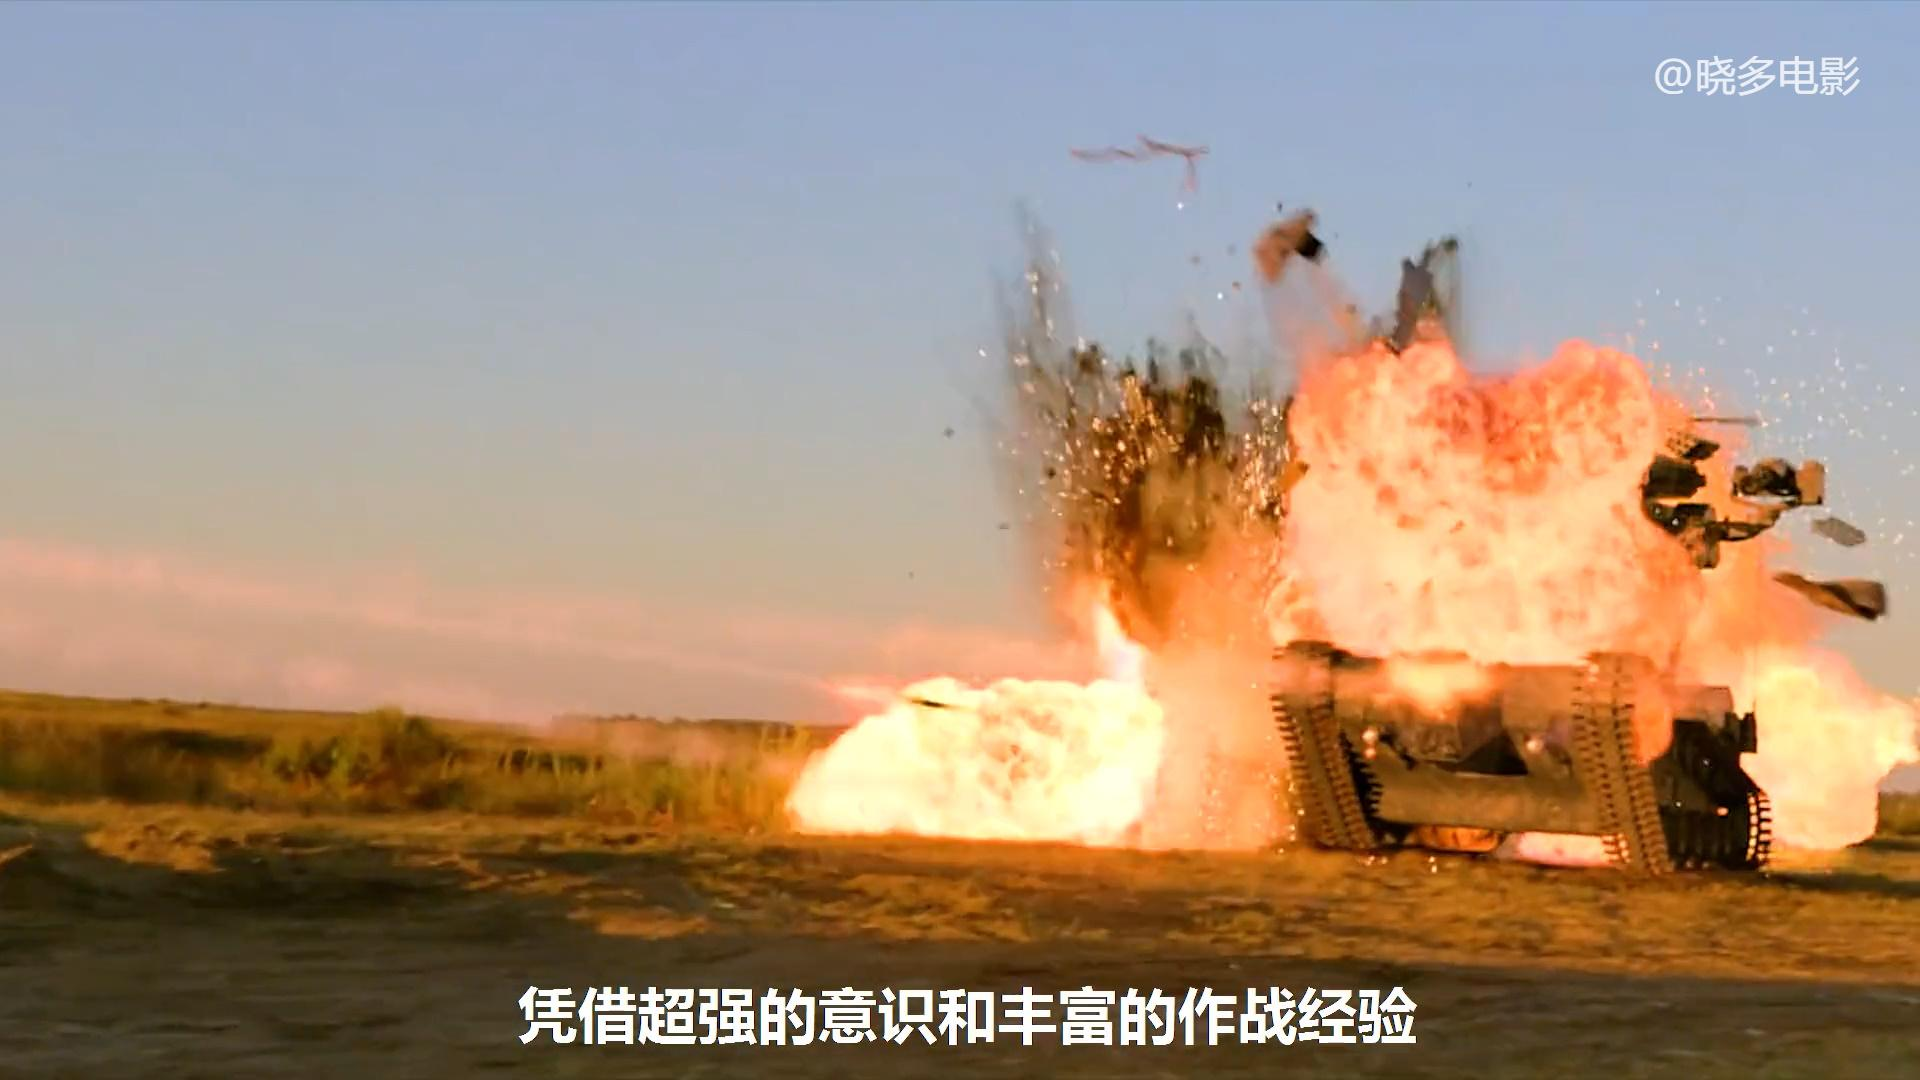fire: (753, 303, 1920, 870)
